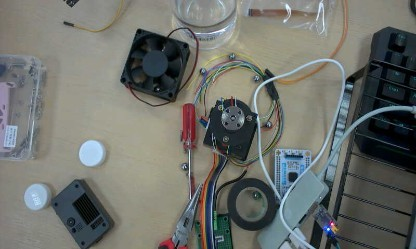ironball: (252, 190, 261, 199), (180, 162, 188, 171), (253, 74, 260, 82), (199, 67, 206, 74), (228, 52, 235, 59), (153, 86, 160, 92), (265, 121, 271, 128)
